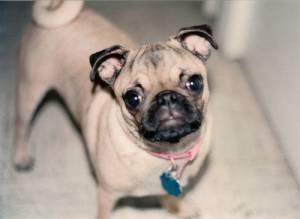dog-pug: (88, 23, 216, 139)
